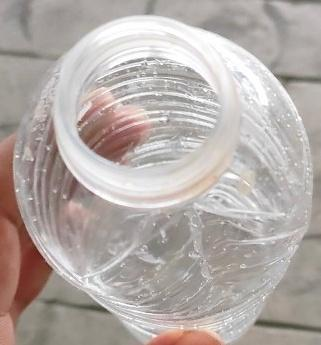plastic_bottle: (13, 15, 313, 345)
